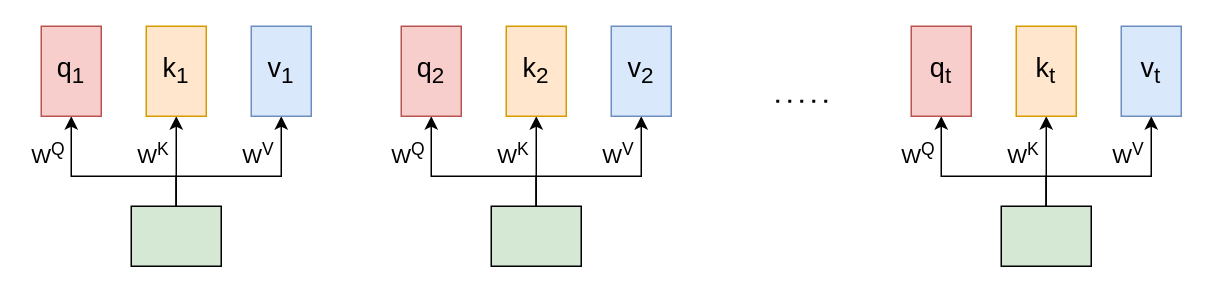
Some shapes in this 1208 by 293 pixel diagram are drawn without their labels. The shapes that lost their labels are listed below. From the top down, each one's box as (x1, y1, x2, y2) in pixels, then its label:
(130, 205, 221, 266): h 1
(490, 205, 581, 266): h 2
(1000, 205, 1091, 266): h t
